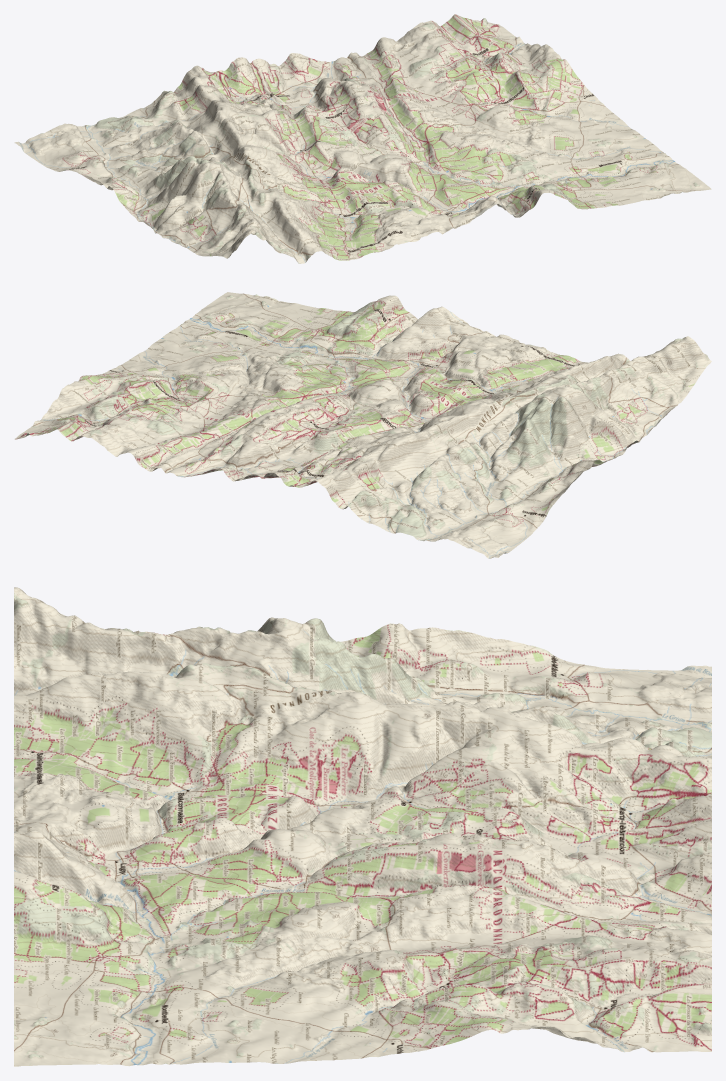
Rendered from terrain.glb.
3 views of the same model, one above another, from view 1: azimuth 30°, elevation 25°; view 2: azimuth 150°, elevation 25°; view 3: azimuth 270°, elevation 25° (orthographic). The views are drawn at different scales.
Parts seen in each view (by area): view 1: Terrain; view 2: Terrain; view 3: Terrain.
Part boxes in pixels (x1=…): Terrain: x1=14, y1=14, x2=711, y2=263; Terrain: x1=14, y1=292, x2=711, y2=558; Terrain: x1=14, y1=587, x2=711, y2=1066.
Size of the model in its own units: 11786 by 1597 by 9003.
1 material, 1 textured.
